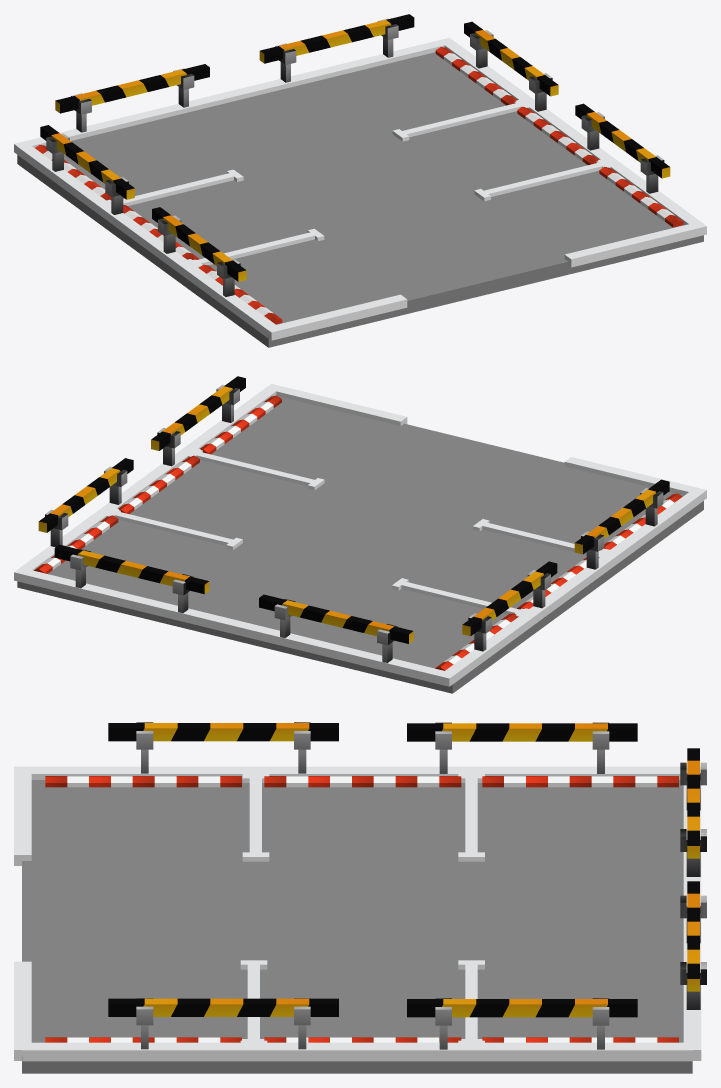
The model's file is Bai_do.fbx.
3 renders of one model, top to bottom at view 1: azimuth 30°, elevation 25°; view 2: azimuth 150°, elevation 25°; view 3: azimuth 270°, elevation 25°, orthographic. The views are drawn at different scales.
Parts seen in each view (by area): view 1: Plane, Plane.006, Plane.001, Plane.005, Plane.007, Cube.001, Cube, Cube.005, Cube.002, Cube.003, Cube.004, Plane.002 (+9 smaller); view 2: Plane, Plane.001, Plane.006, Plane.005, Plane.007, Cube.001, Cube, Cube.003, Cube.002, Cube.004, Cube.005, Plane.008 (+9 smaller); view 3: Plane, Plane.007, Plane.006, Cube.003, Cube.004, Cube.002, Cube.005, Plane.005, Cube, Cube.001, Plane.014, Plane.013 (+9 smaller).
Boxes of the visible parts, x1,y1,x2,y2 form: Plane: (17,52,703,347); Plane.006: (17,146,278,337); Plane.001: (14,37,455,153); Plane.005: (265,223,706,340); Plane.007: (444,40,703,225); Cube.001: (259,14,414,82); Cube: (55,64,209,132); Cube.005: (575,103,670,193); Cube.002: (40,125,134,214); Cube.003: (152,207,246,296); Cube.004: (464,21,558,111); Plane.002: (392,99,529,141); Plane: (17,396,703,693); Plane.001: (14,568,454,686); Plane.006: (441,489,703,684); Plane.005: (265,383,706,499); Plane.007: (17,386,278,570); Cube.001: (54,544,209,613); Cube: (259,594,413,662); Cube.003: (574,479,669,569); Cube.002: (462,561,557,651); Cube.004: (38,458,133,547); Cube.005: (151,376,245,466); Plane.008: (187,448,324,490); Plane: (22,780,692,1073); Plane.007: (22,1042,692,1061); Plane.006: (22,766,687,779); Cube.003: (108,722,338,773); Cube.004: (407,998,637,1049); Cube.002: (407,722,637,773); Cube.005: (108,998,338,1049); Plane.005: (14,766,31,1060); Cube: (680,748,706,876); Cube.001: (680,881,706,1009); Plane.014: (264,776,461,787); Plane.013: (482,776,678,787).
Size of the model in its own units: 1216 by 135 by 1239.
